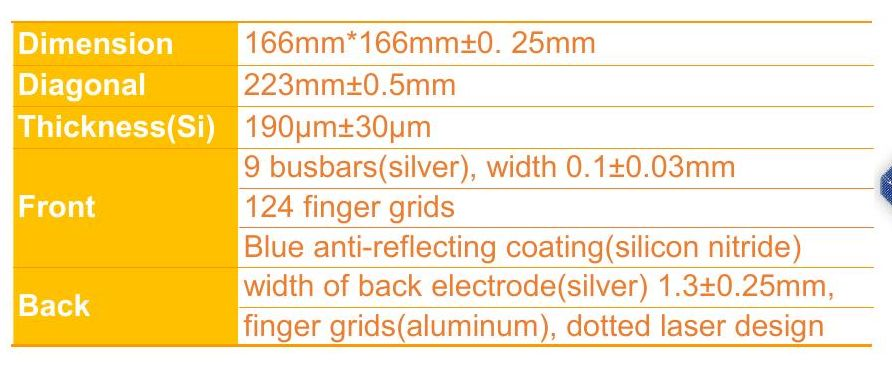table: (2, 10, 887, 360)
table column: (240, 17, 877, 350), (13, 17, 236, 351)
table row: (9, 151, 880, 264), (8, 270, 883, 343), (8, 24, 877, 63), (9, 108, 882, 146), (8, 68, 881, 104)
